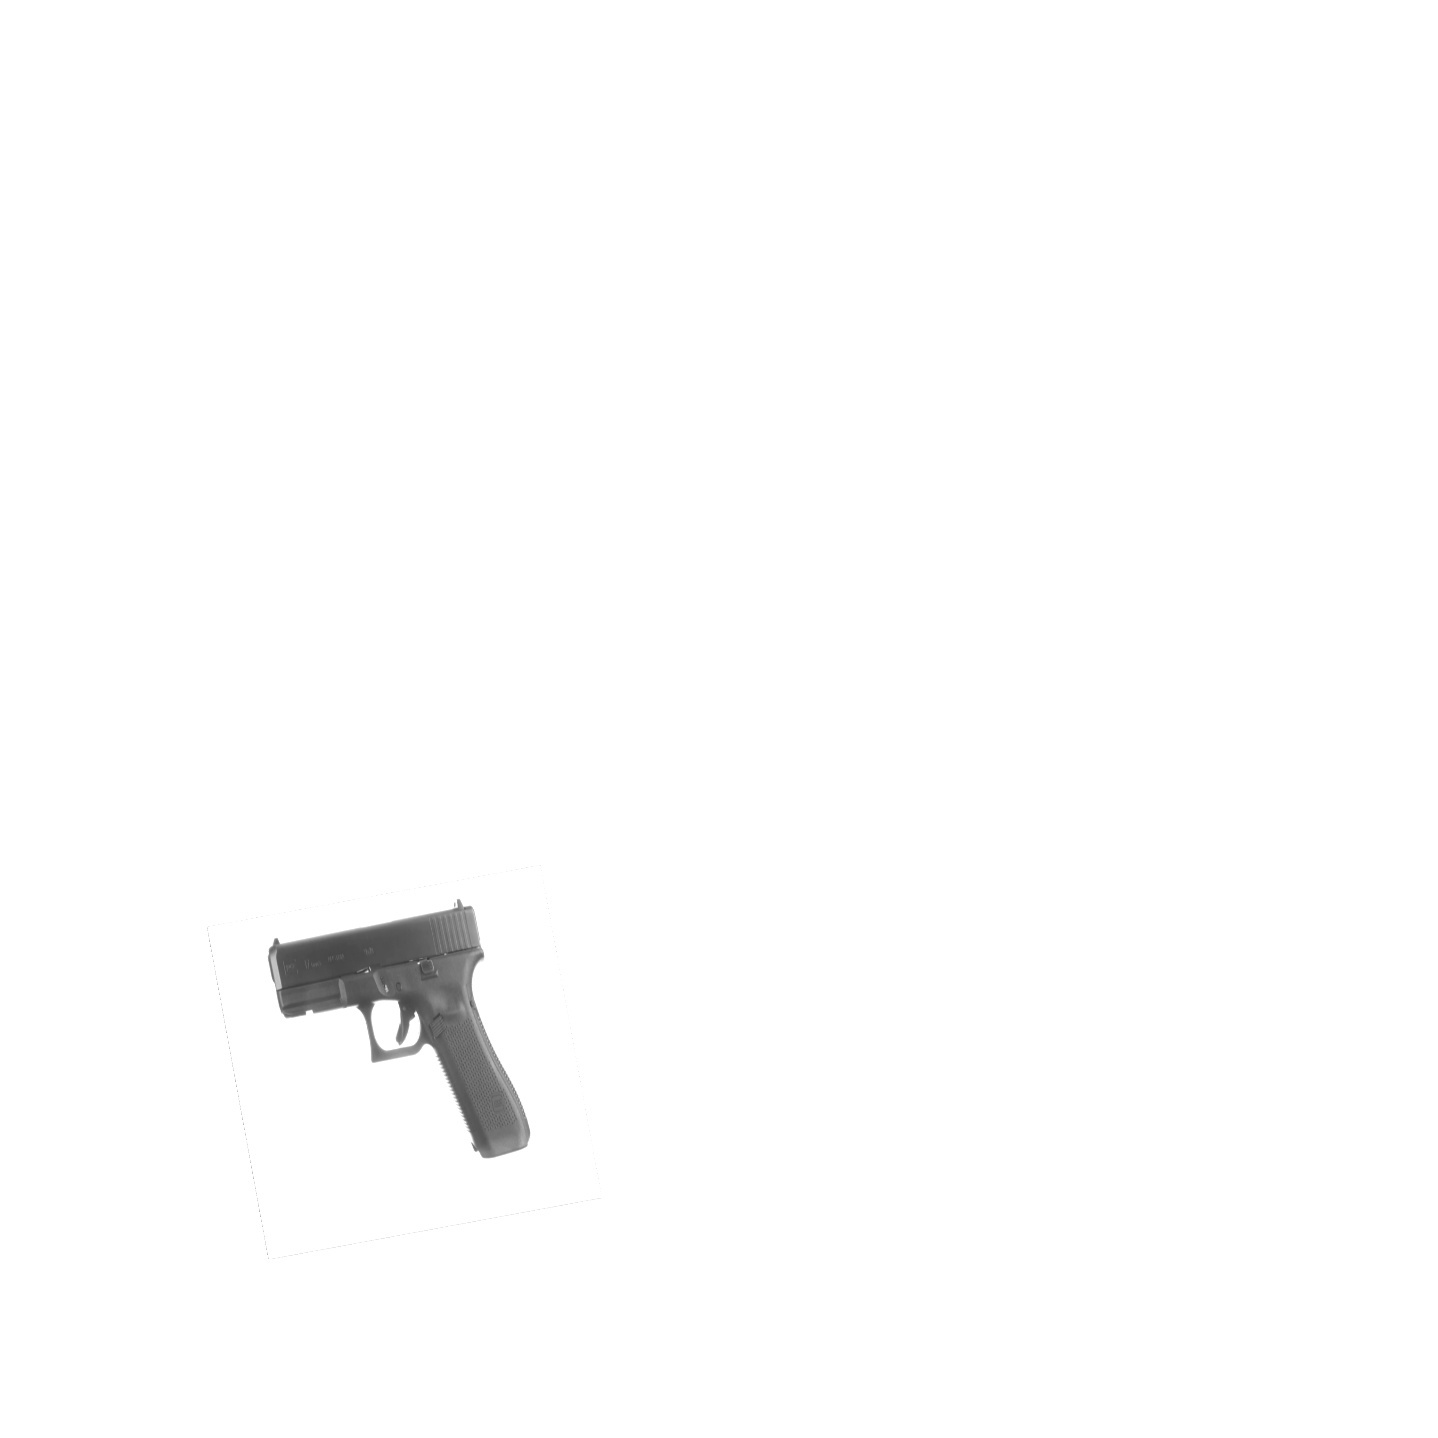gun: (254, 897, 546, 1165)
